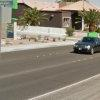Car: (71, 27, 100, 61)
